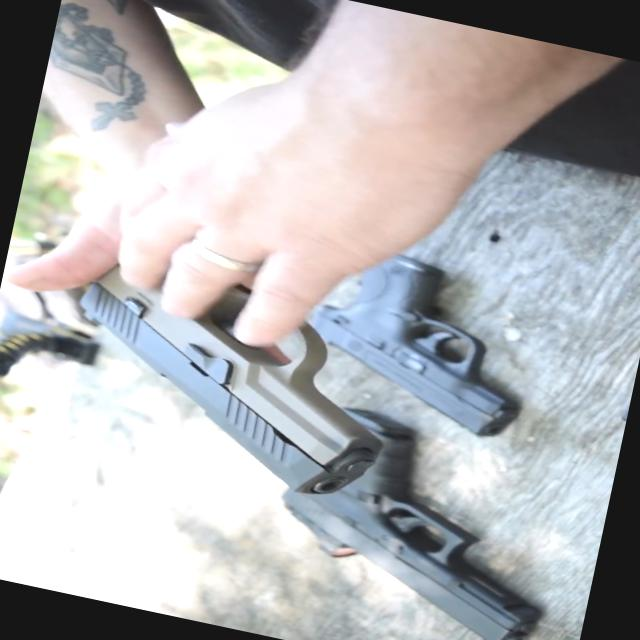handgun: (36, 167, 424, 500), (273, 384, 578, 639), (296, 219, 548, 449)
